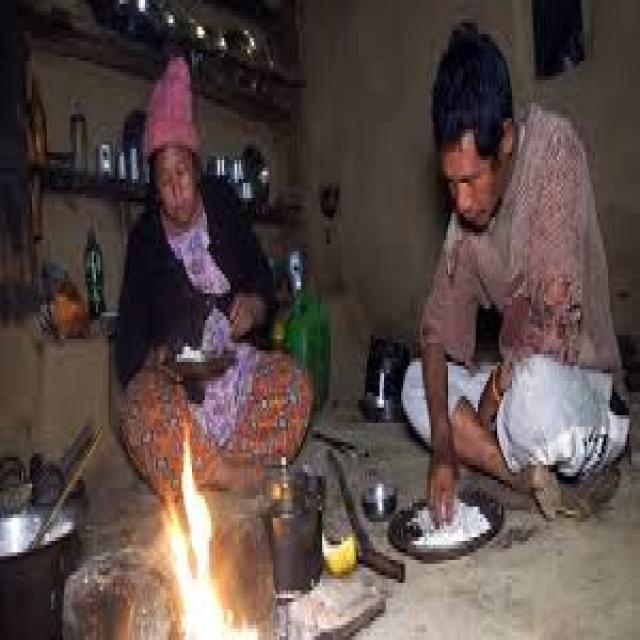fire: (162, 415, 258, 640)
